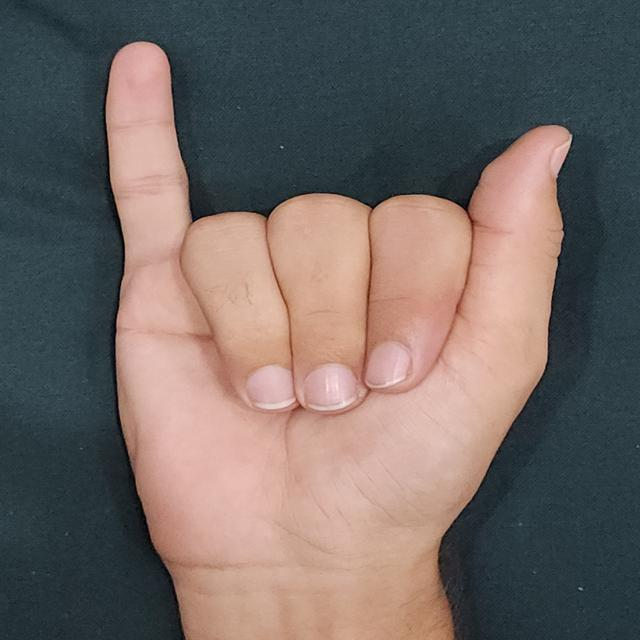ژ: (98, 33, 593, 612)
